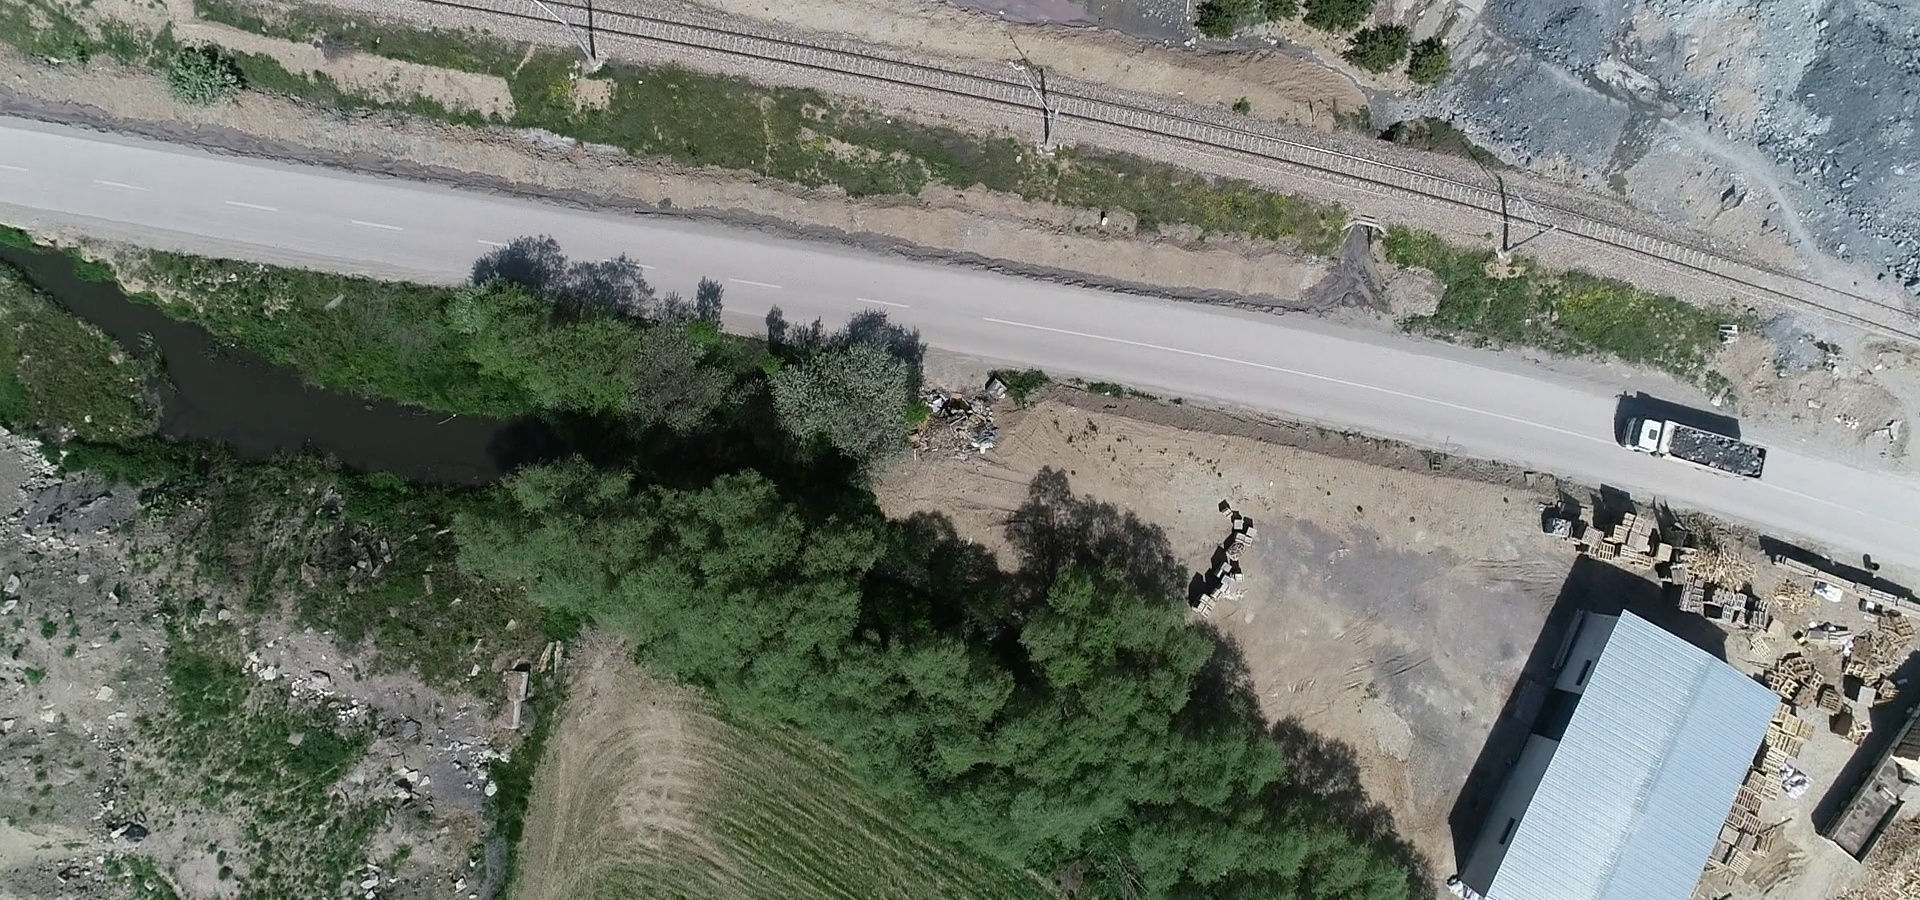kamyon: (1620, 416, 1771, 474)
